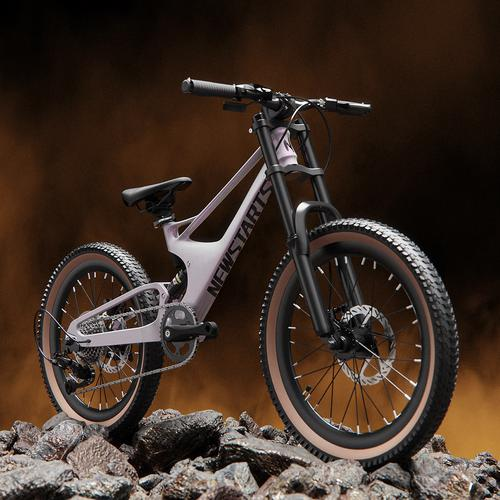单车: (35, 58, 480, 471)
